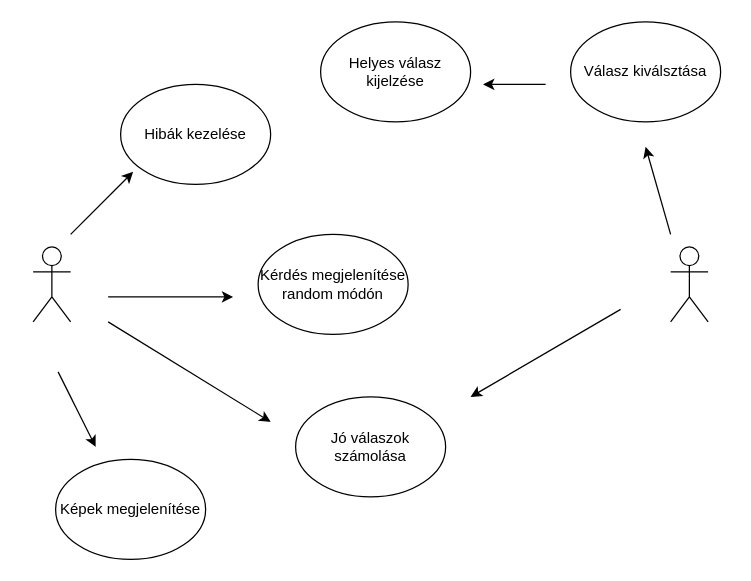
Some shapes in this 751 by 581 pixel diagram are drawn without their labels. Each missing label, with the centre of its shape:
"Fejlesztő" belongs at point (51, 284).
"Felhasználó" belongs at point (688, 284).
